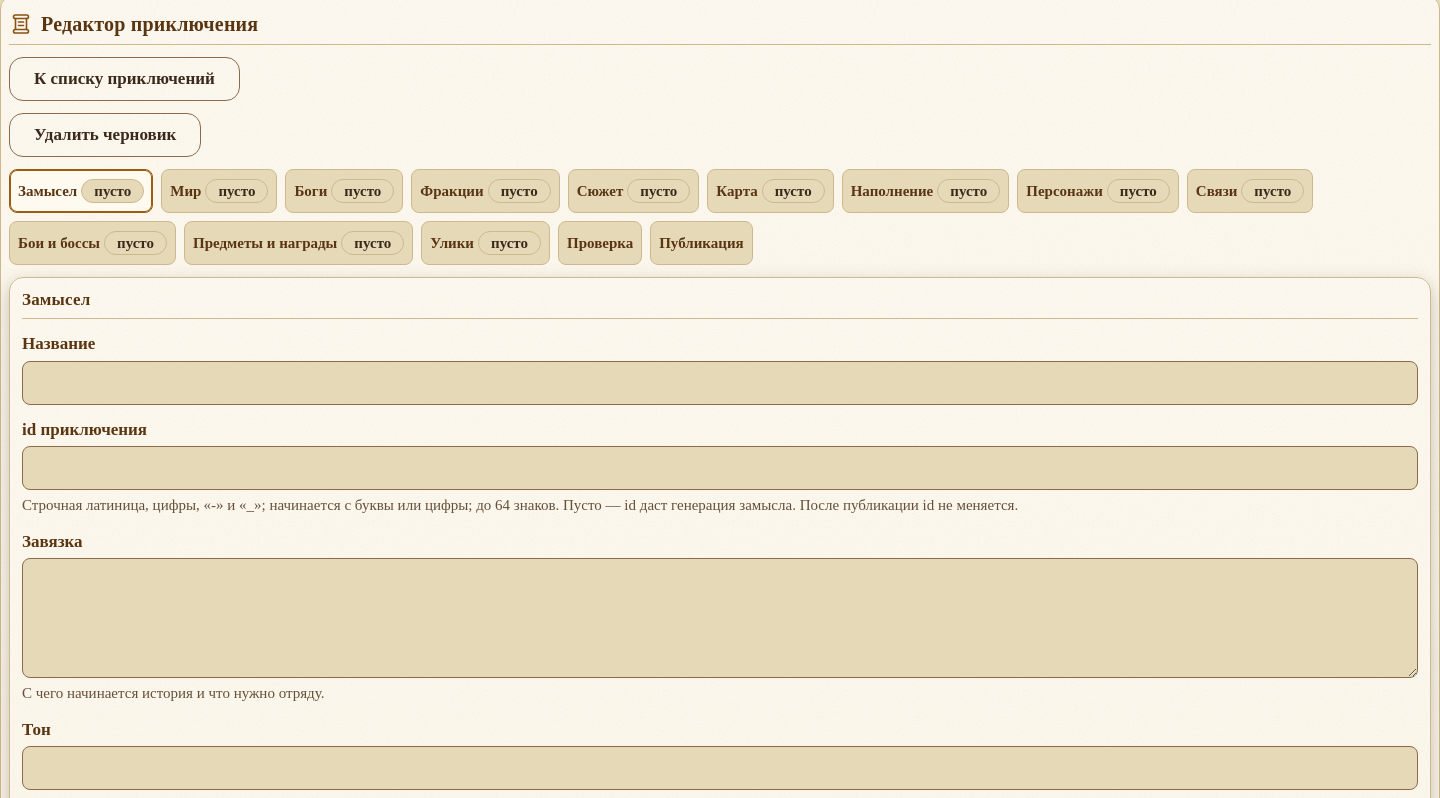
Scenario: экран «Проверка» › ошибки и предупреждения: текст сервера как есть, сущность и шаг
This screenshot has width=1440, height=798.
Click the button "Проверка": [600, 243] box x1=558 y1=221 x2=642 y2=265
(page scrolled)
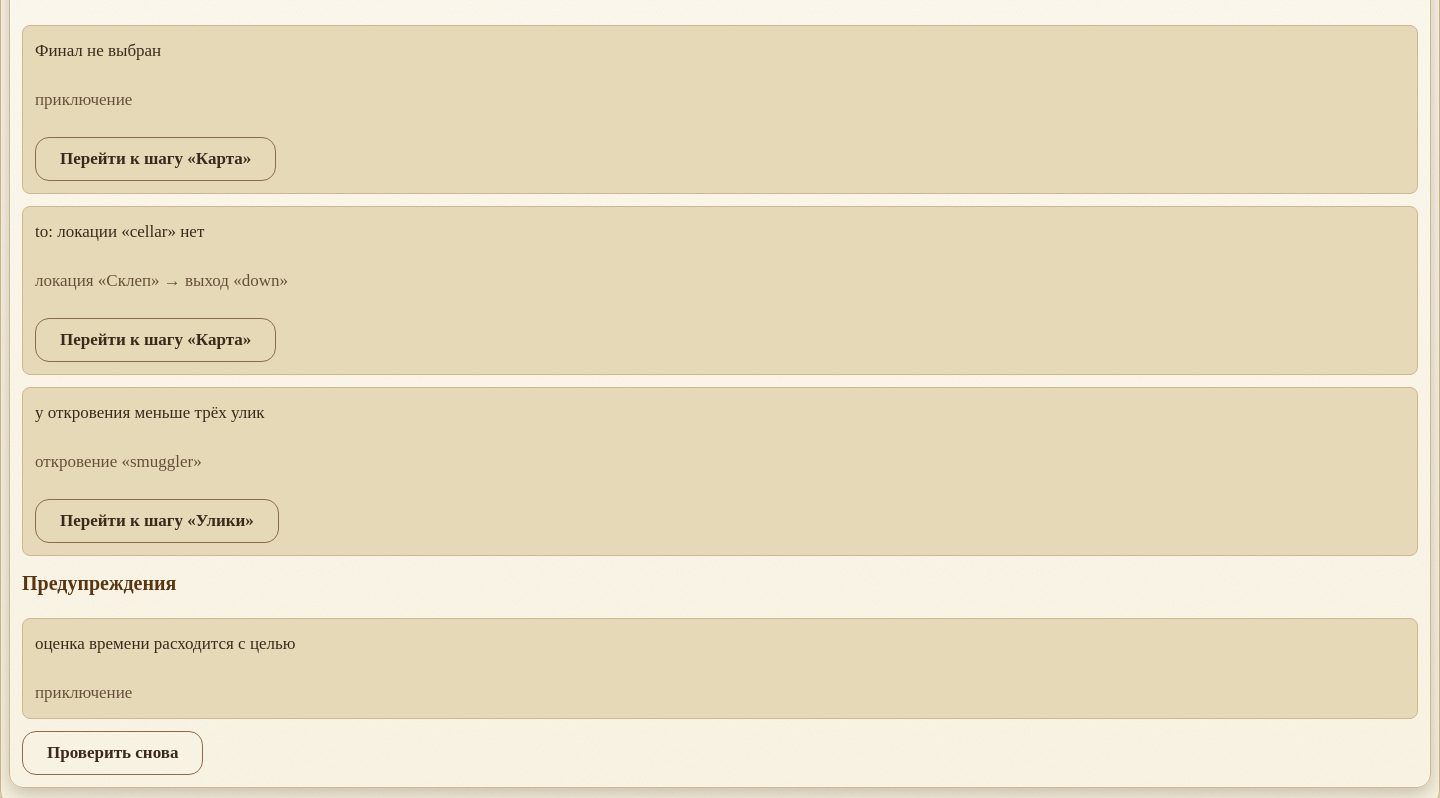
Now the list item "Финал не выбран приключение Перейти к шагу «Карта»" is shown, box x1=22 y1=25 x2=1418 y2=194
Now the list item that starts with "to: локации «cellar» нет" is shown, box x1=35 y1=222 x2=204 y2=241
Now the list item that starts with "to: локации «cellar» нет" shows "локация «Склеп» → выход «down»", box x1=35 y1=271 x2=288 y2=290
